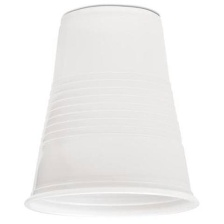glass: (21, 0, 198, 222)
